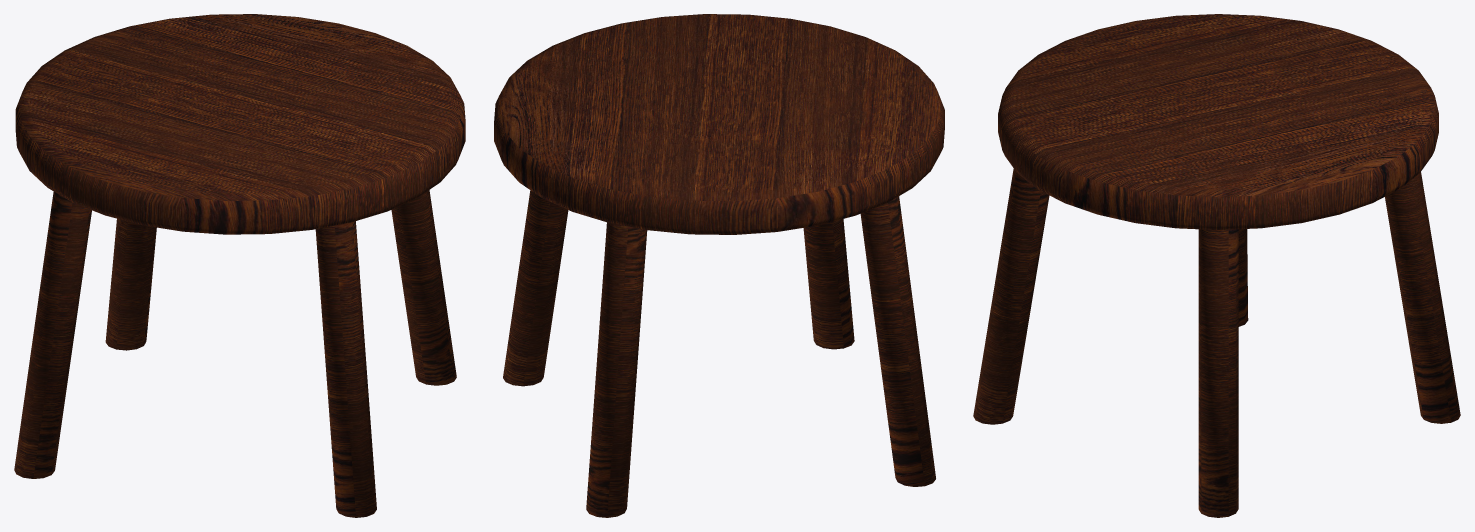
The model's file is Silla-redonda.fbx.
3 renders of one model, left to right at view 1: azimuth 30°, elevation 25°; view 2: azimuth 150°, elevation 25°; view 3: azimuth 270°, elevation 25°, orthographic. The views are drawn at different scales.
Visible parts, largest first — view 1: Silla peque; view 2: Silla peque; view 3: Silla peque.
Part boxes in pixels (x1,y1,x2,y2): Silla peque: (14,14,465,517); Silla peque: (494,14,944,517); Silla peque: (973,14,1460,517).
Bounding box in the file's own units: 121 × 85.88 × 121.
